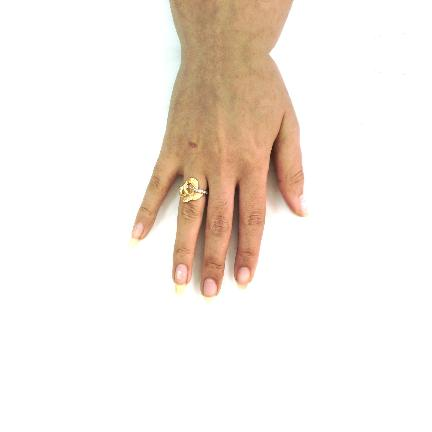Nail: (175, 264, 188, 296), (129, 222, 144, 249), (236, 267, 251, 290), (204, 279, 217, 297), (299, 194, 309, 217)
